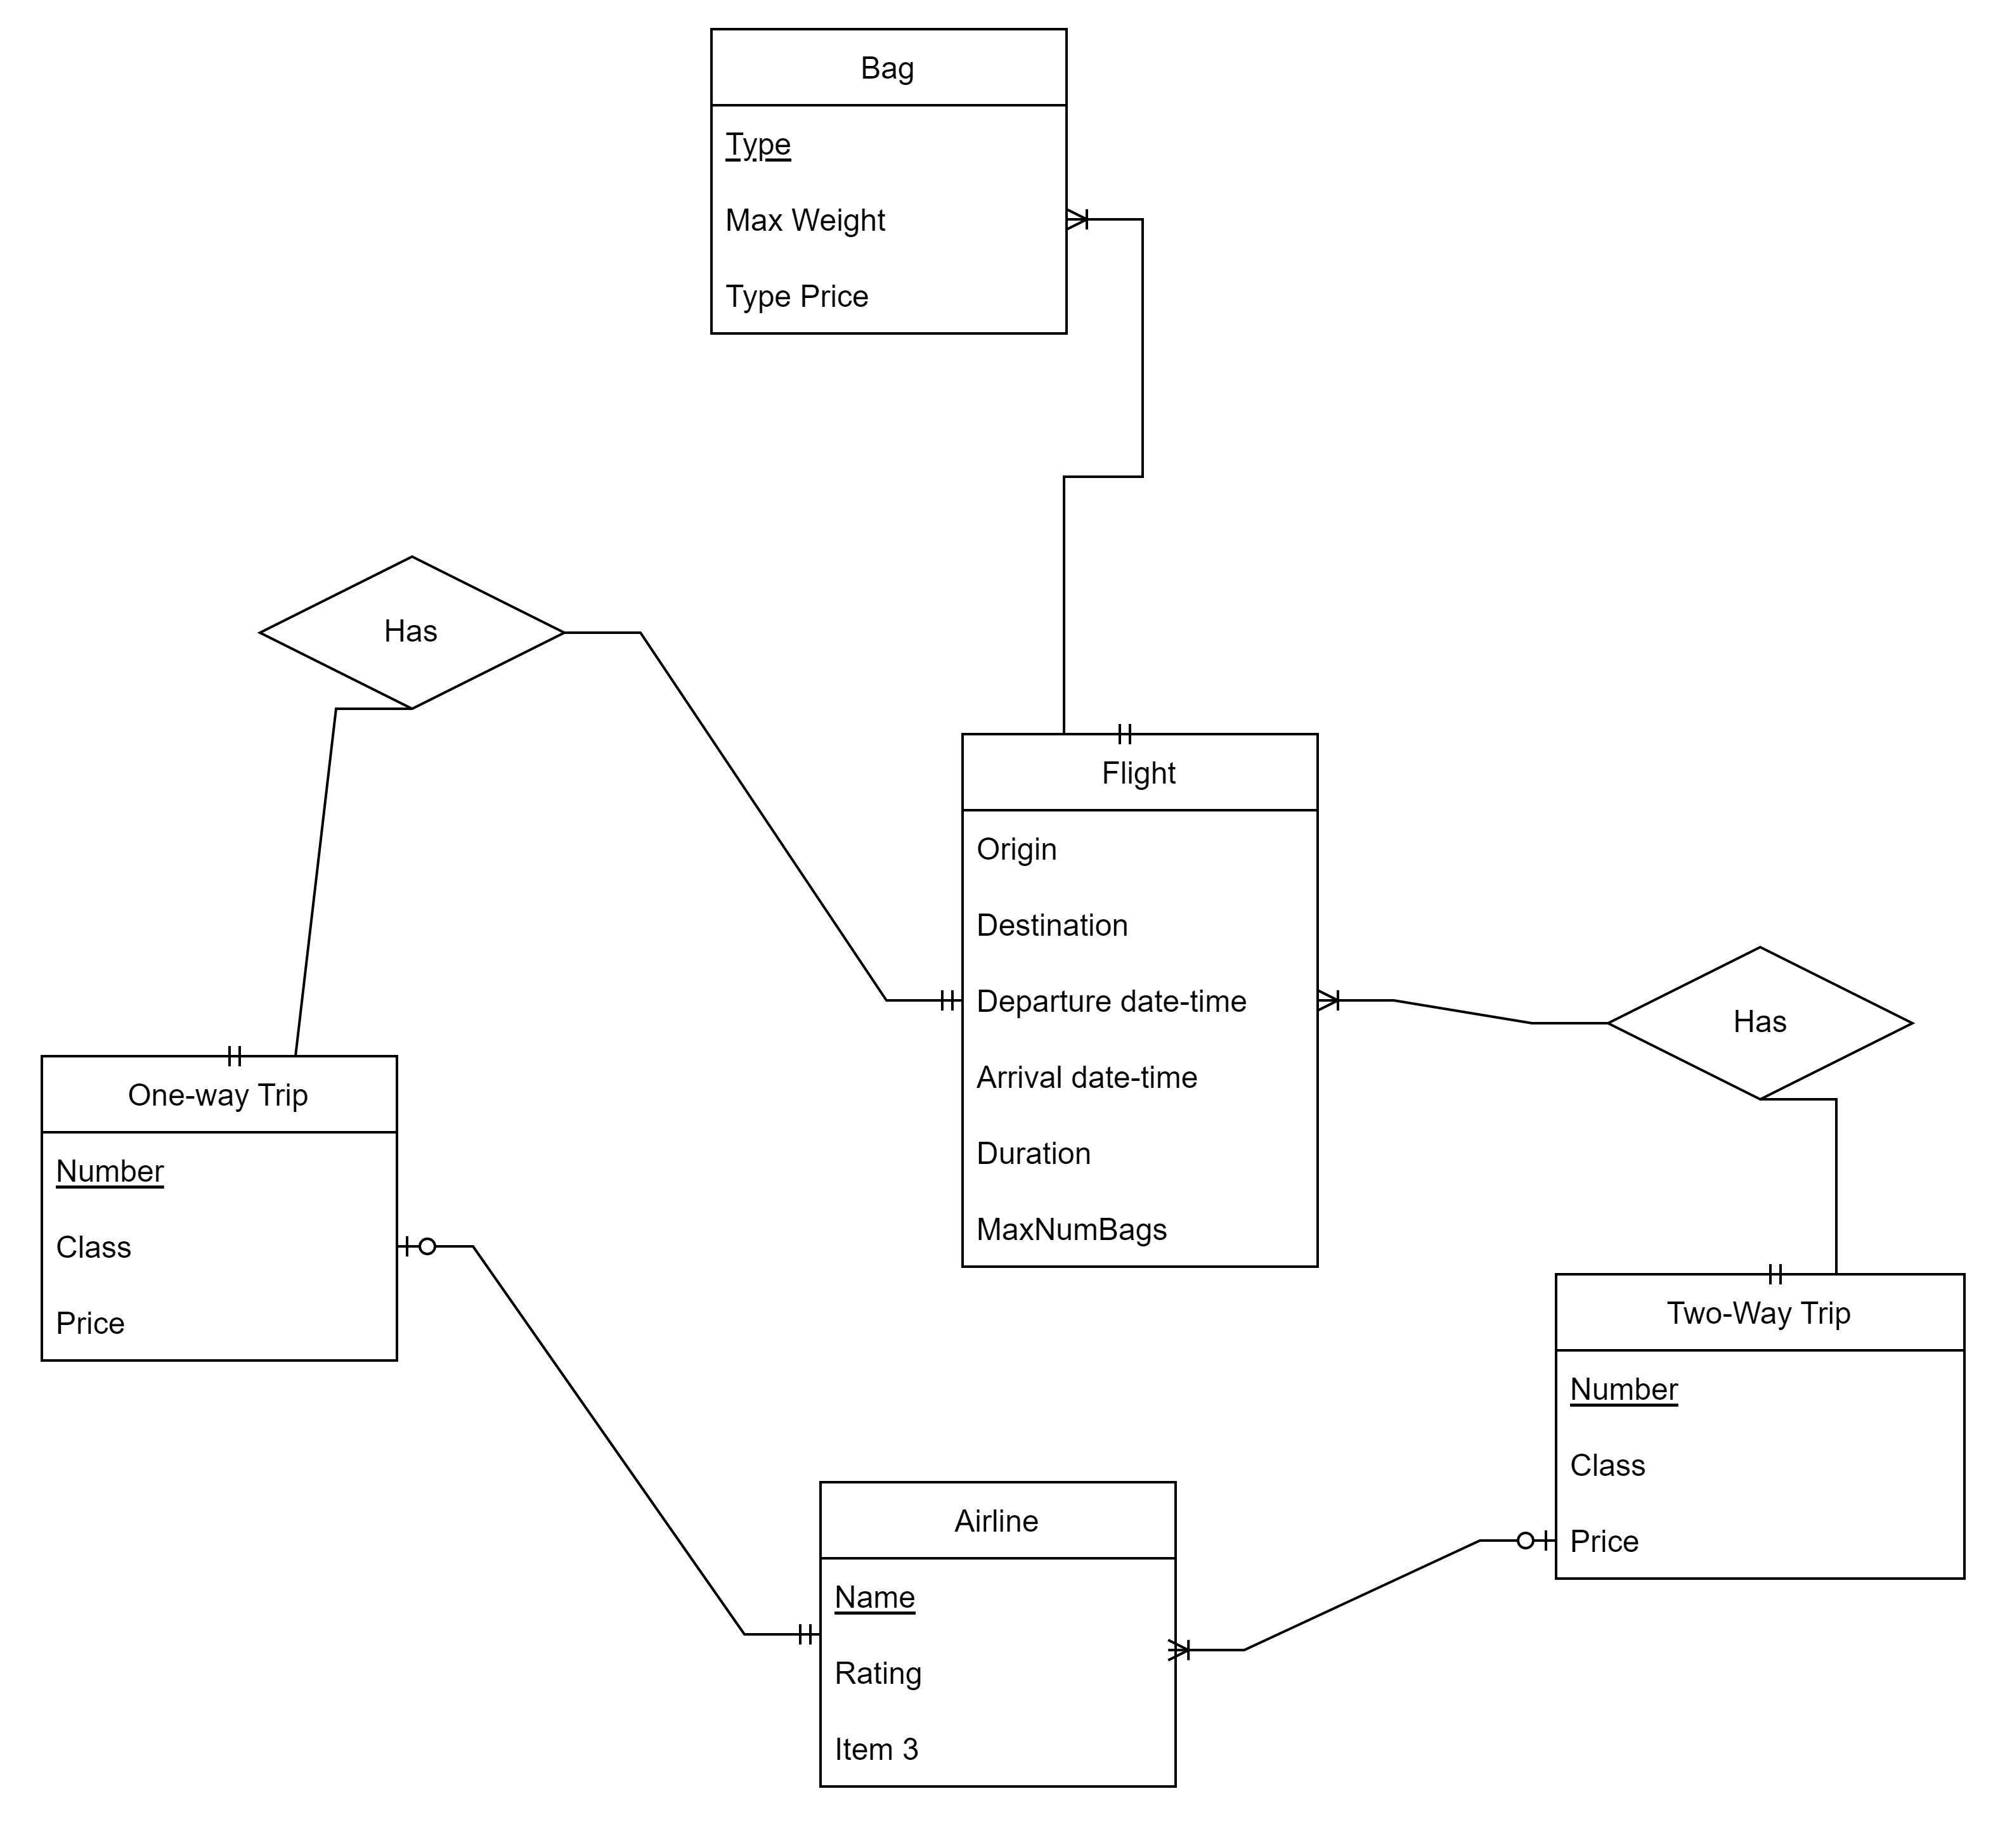entity: (960, 734, 1316, 1270), (1551, 1273, 1963, 1582), (39, 1058, 394, 1363), (712, 28, 1069, 331), (822, 1478, 1176, 1783)
many: (1064, 186, 1144, 254), (1157, 1622, 1237, 1680), (1314, 974, 1381, 1028)
one: (1053, 699, 1157, 751), (205, 1021, 280, 1081), (394, 1217, 450, 1266), (908, 970, 962, 1019), (1505, 1513, 1560, 1561), (768, 1605, 818, 1652), (1753, 1251, 1817, 1287)
rel: (259, 555, 559, 711), (1611, 948, 1912, 1102)
